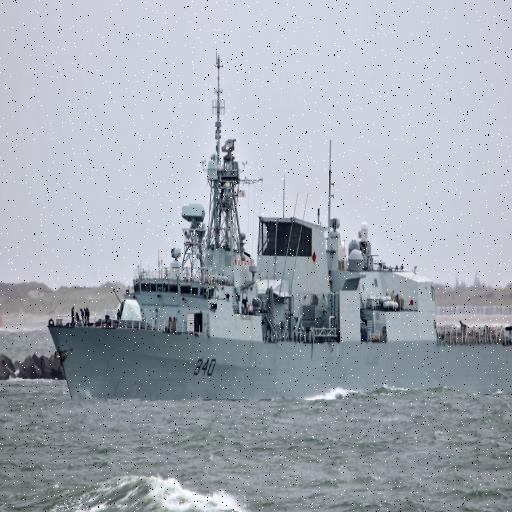Fragata: (48, 51, 512, 407)
